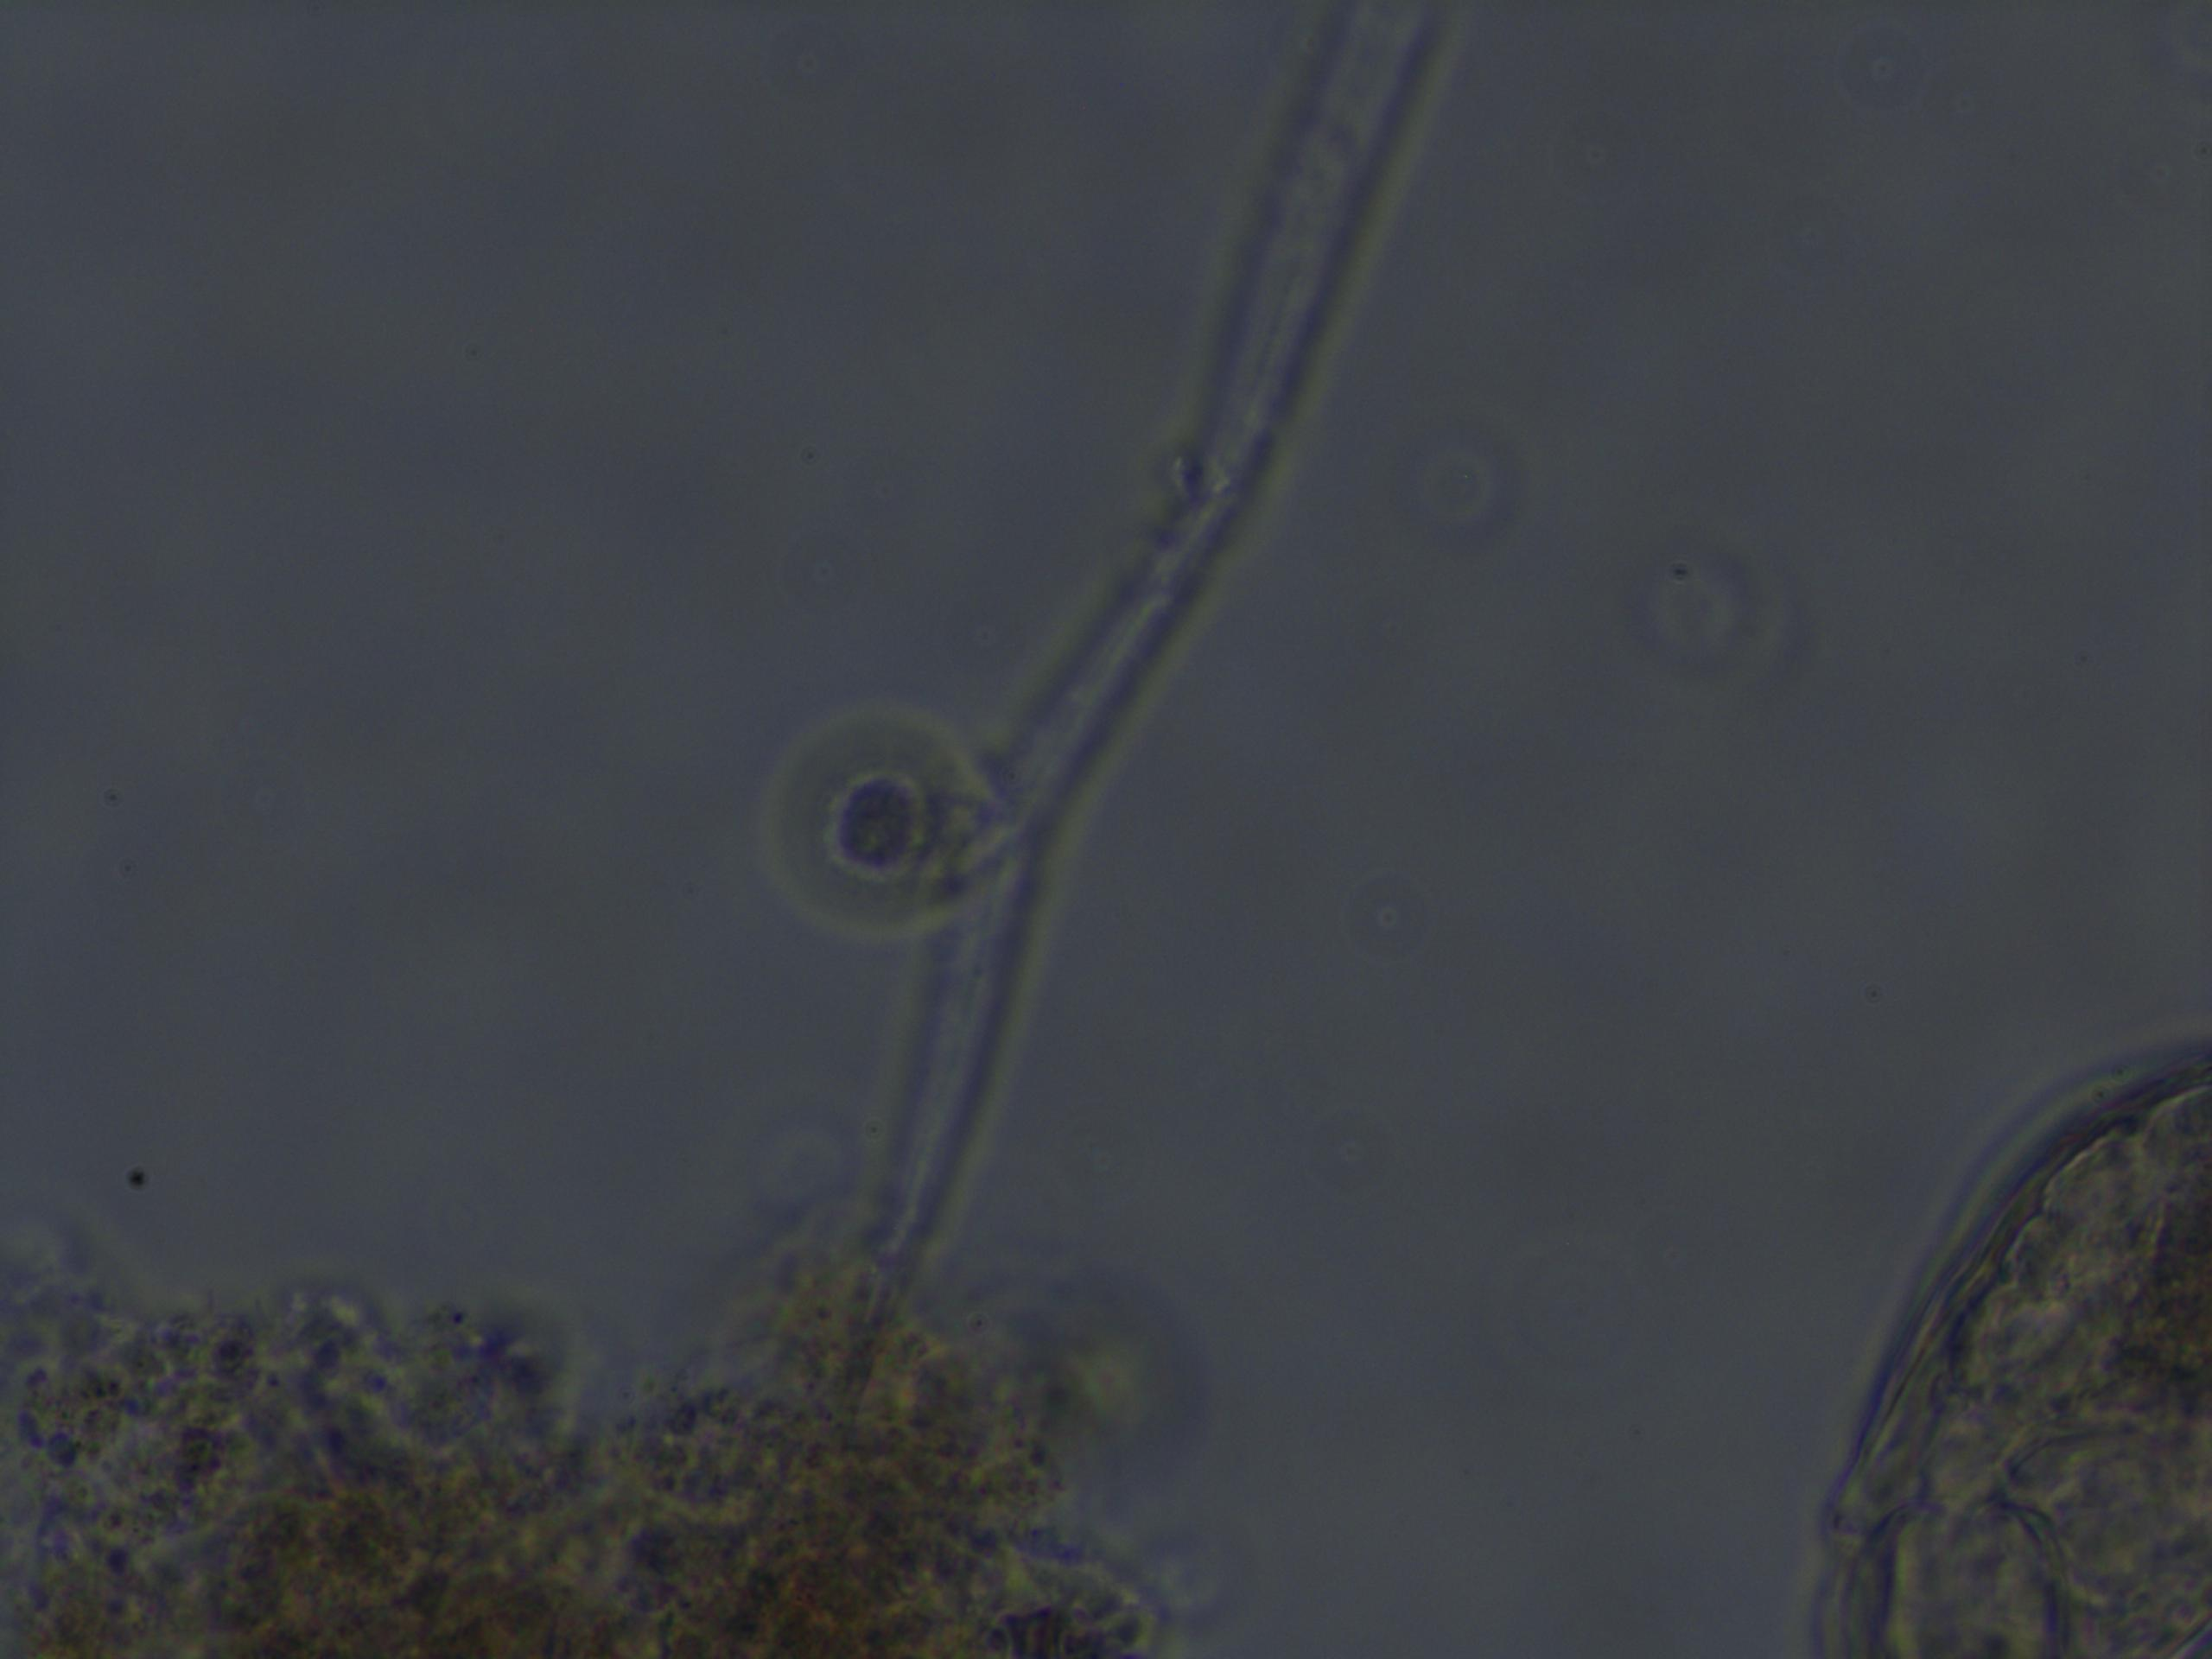filament: (791, 0, 1453, 1391)
